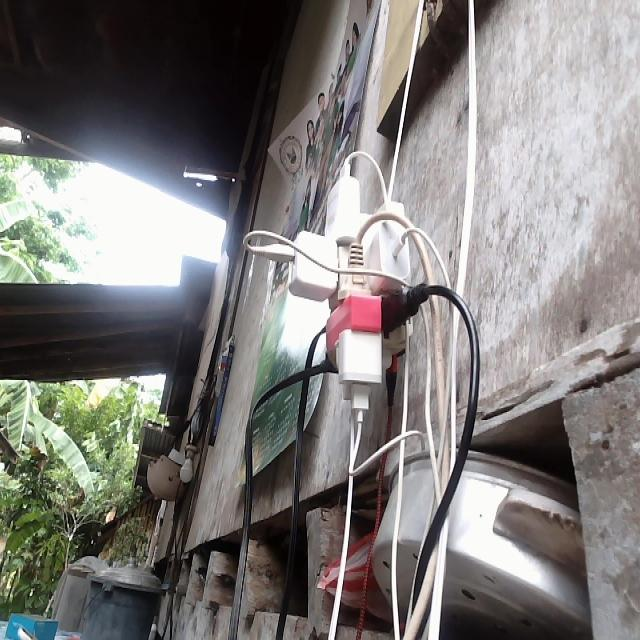-: (265, 151, 431, 405)
